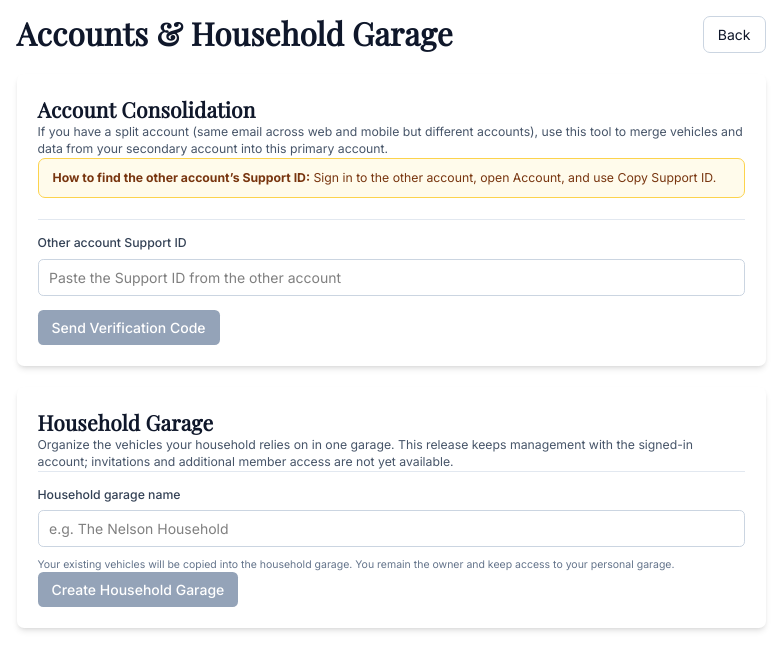
Test: AccountConsolidation – household garage › promotes a personal garage to a household garage
Type "The Nelson Household" into the field labelled "Household garage name" at (391,528), box [38,510,744,547]
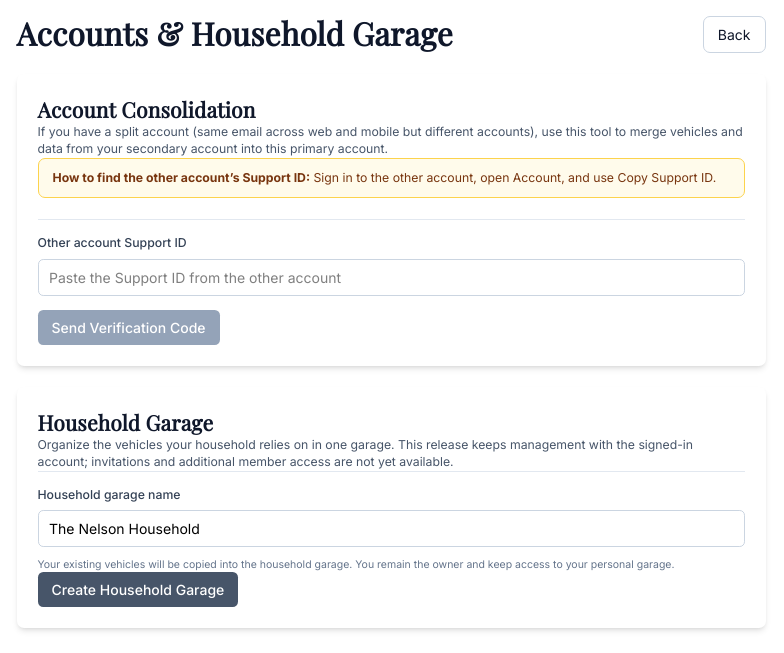
Click the button "Create Household Garage" at (138,589), box [38,572,238,606]
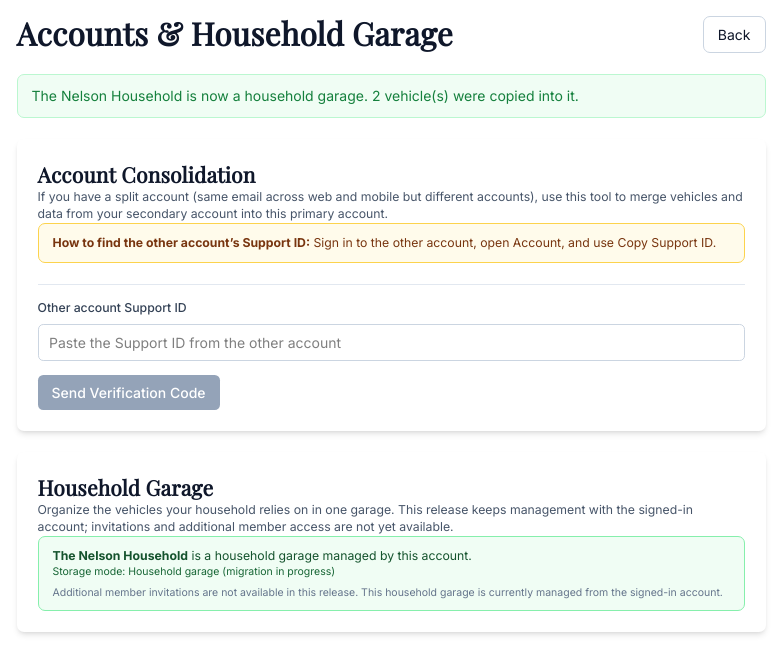
Check: the text "The Nelson Household" is shown, box [32,87,579,104]
